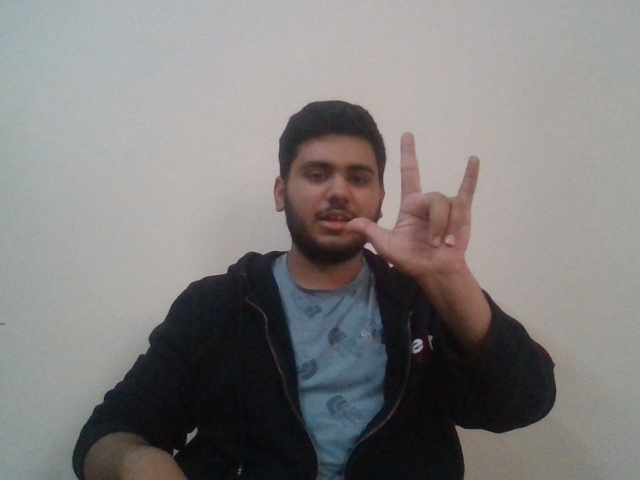IloveYou: (343, 124, 497, 271)
